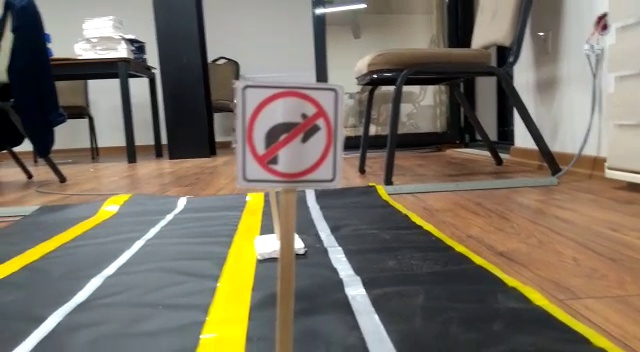saga_donulmez: (240, 86, 337, 185)
